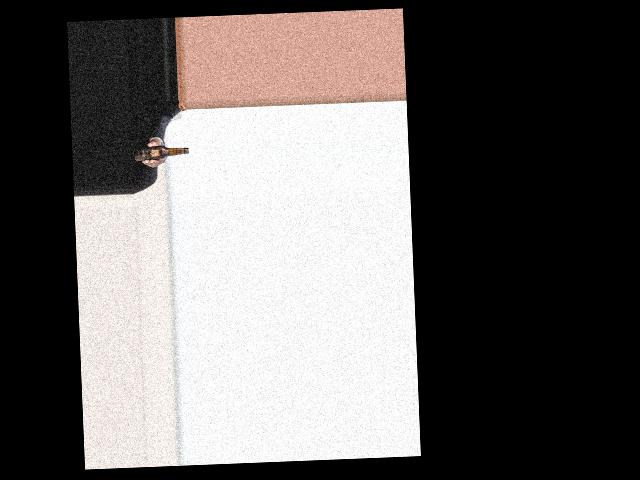beer: (133, 145, 188, 161)
